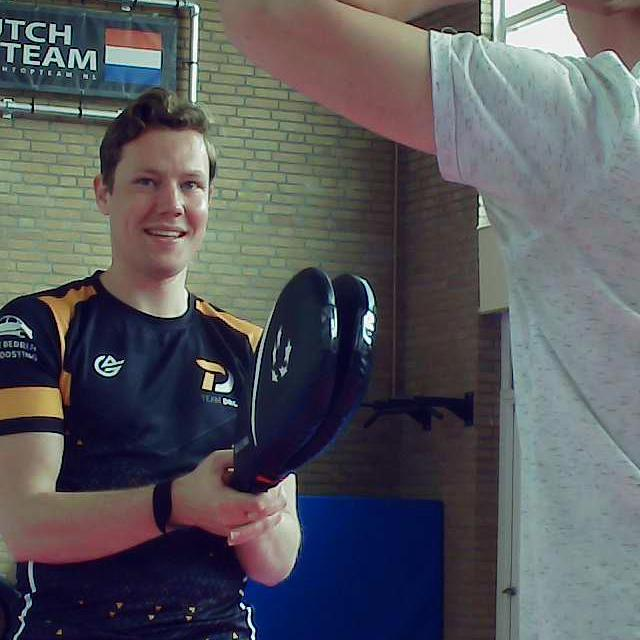paddle: (230, 269, 381, 494)
